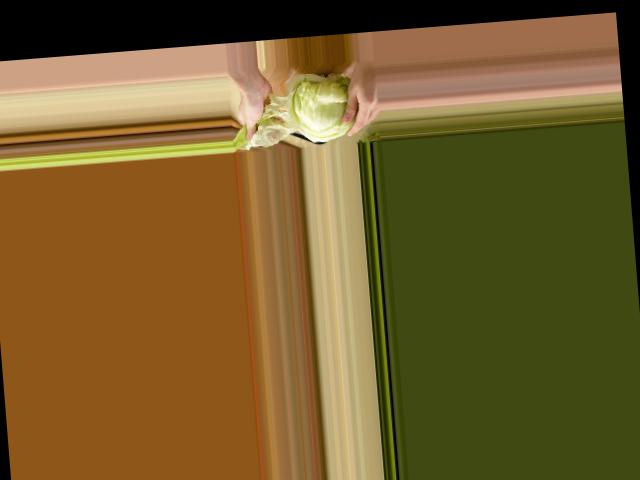lettuce: (269, 65, 361, 148)
